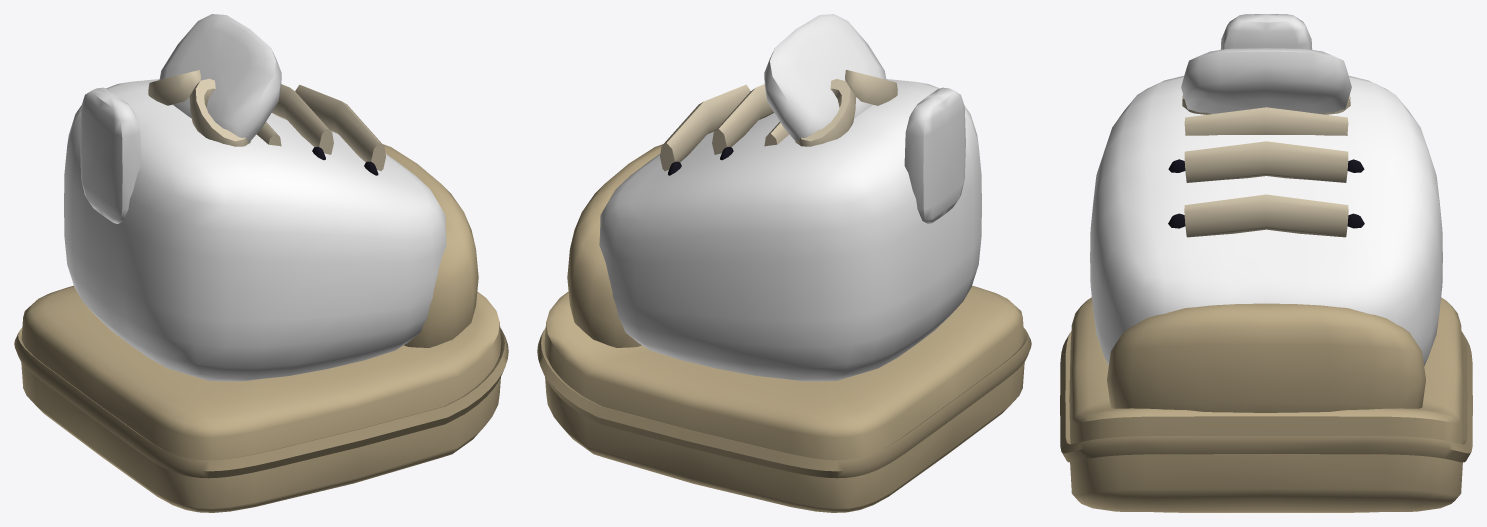
Rendered from SM_Crew_Shoe.fbx.
3 views of the same model, side by side, from view 1: azimuth 30°, elevation 25°; view 2: azimuth 150°, elevation 25°; view 3: azimuth 270°, elevation 25° (orthographic). The views are drawn at different scales.
Visible parts, largest first — view 1: SM_Crew_Shoe; view 2: SM_Crew_Shoe; view 3: SM_Crew_Shoe.
Part boxes in pixels (box(x1,y1,x2,y2)): SM_Crew_Shoe: box(14, 14, 508, 512); SM_Crew_Shoe: box(537, 14, 1031, 512); SM_Crew_Shoe: box(1060, 14, 1472, 512).
Size of the model in its own units: 107 by 118 by 107.
